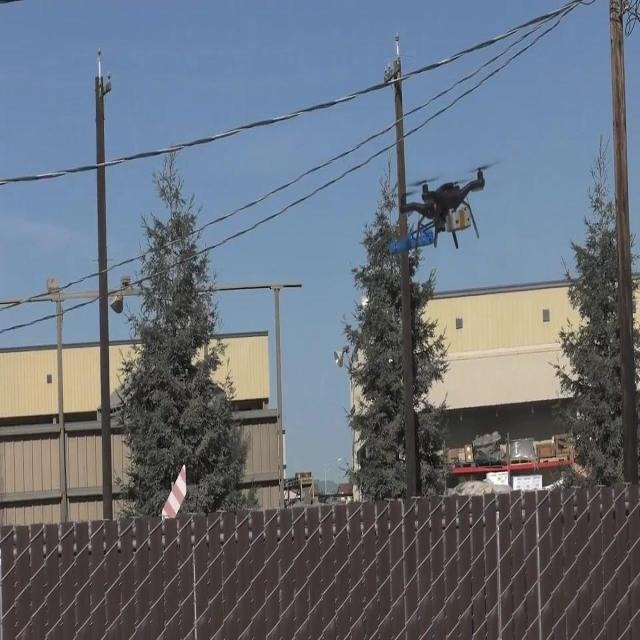drone: (399, 158, 487, 252)
